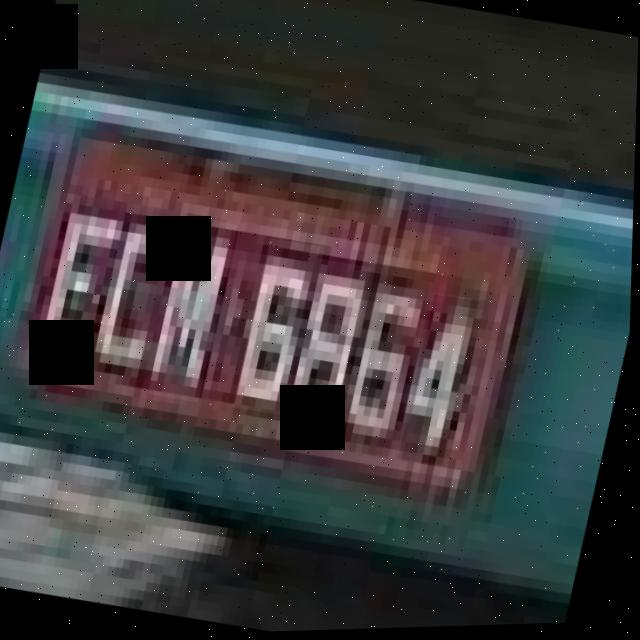4: (401, 296, 482, 469)
6: (338, 274, 432, 461), (235, 239, 323, 419)
8: (283, 260, 374, 443)
C: (89, 207, 184, 391)
E: (33, 198, 128, 376)
M: (150, 217, 239, 405)
